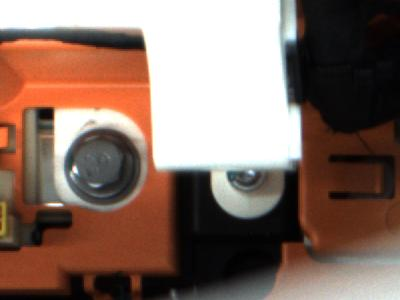nut_b: (61, 123, 143, 209)
